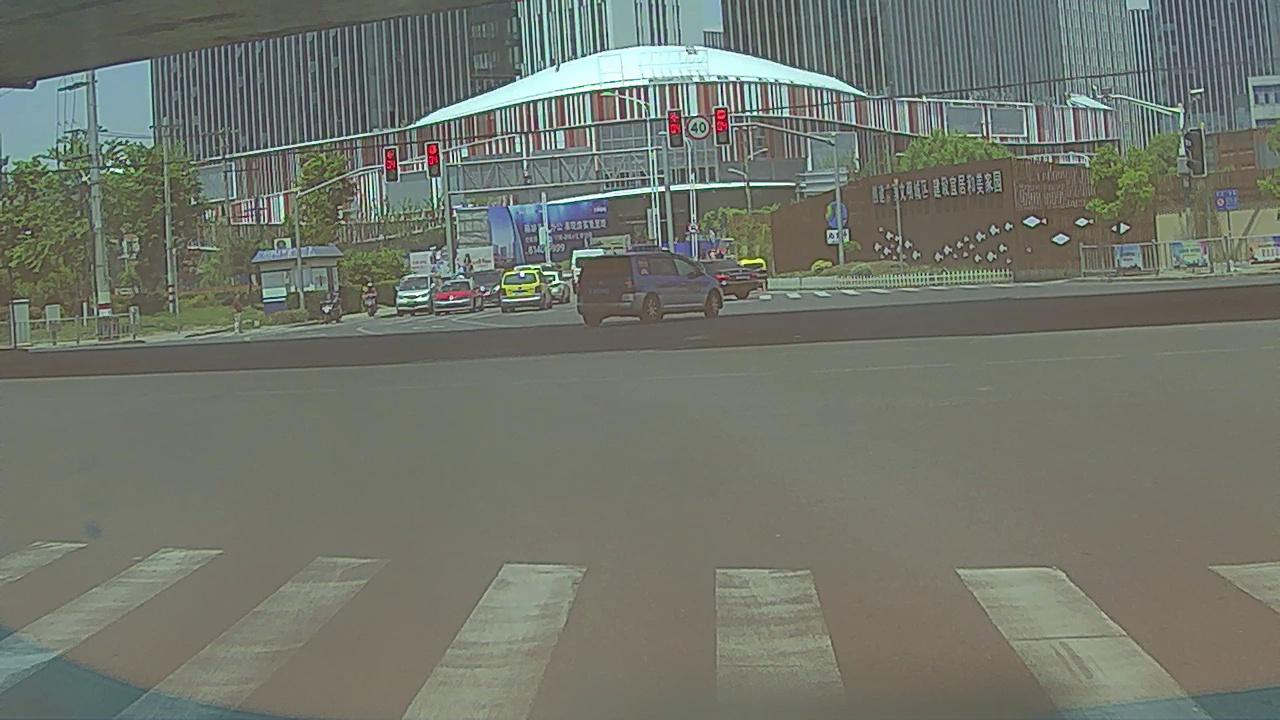traffic_light: (714, 107, 730, 145), (668, 110, 682, 147), (425, 143, 440, 176), (385, 149, 397, 181)
